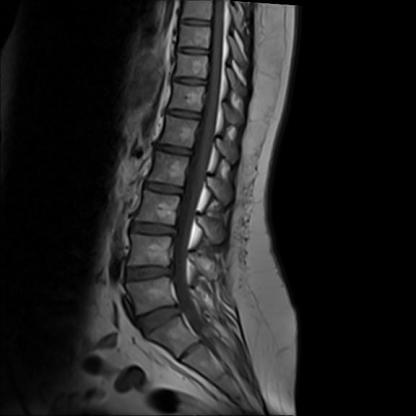Disc Bulgerotation: (139, 305, 186, 331), (130, 264, 173, 285), (134, 221, 176, 239)
